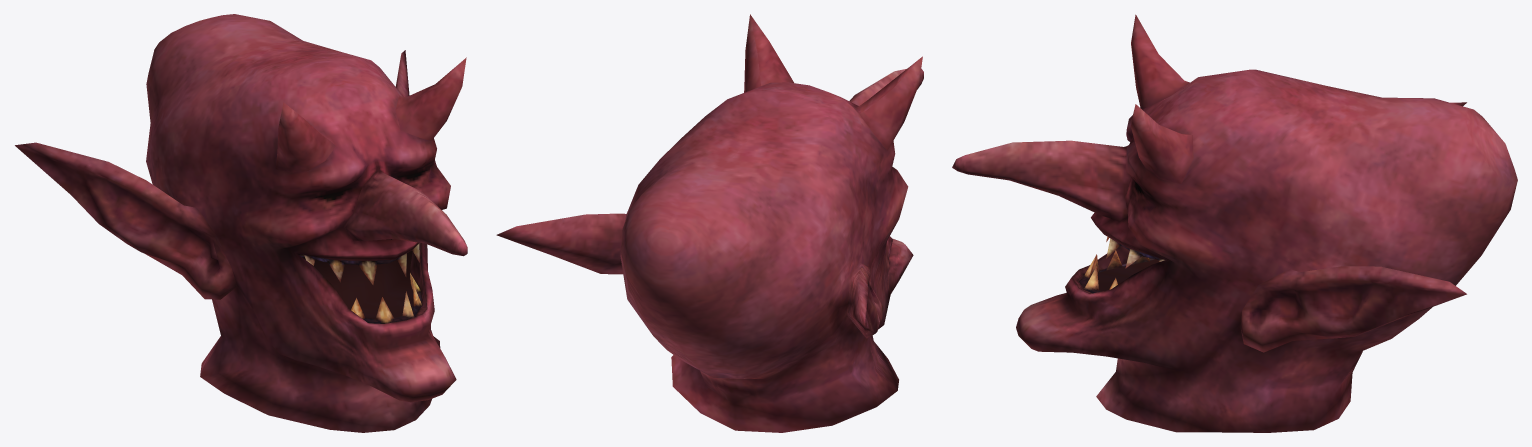
Rendered from NoveltyGhoulMask_WorldItem.fbx.
3 renders of one model, left to right at view 1: azimuth 30°, elevation 25°; view 2: azimuth 150°, elevation 25°; view 3: azimuth 270°, elevation 25°, orthographic. The views are drawn at different scales.
Parts seen in each view (by area): view 1: rdmobj01_model\om\om0; view 2: rdmobj01_model\om\om0; view 3: rdmobj01_model\om\om0.
Part boxes in pixels (x1,y1,x2,y2): rdmobj01_model\om\om0: (15,14,467,432); rdmobj01_model\om\om0: (496,14,923,432); rdmobj01_model\om\om0: (952,14,1517,432).
Size of the model in its own units: 0.2577 by 0.2145 by 0.3212.
